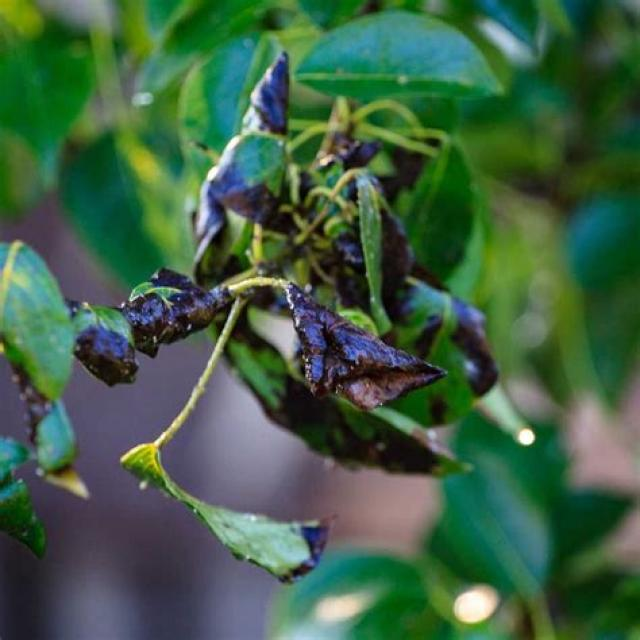blight: (270, 270, 448, 423), (255, 497, 348, 593)
